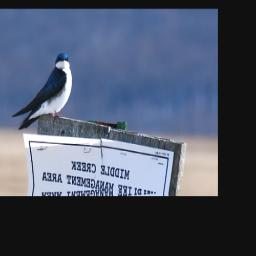Swallow: (12, 48, 75, 133)
